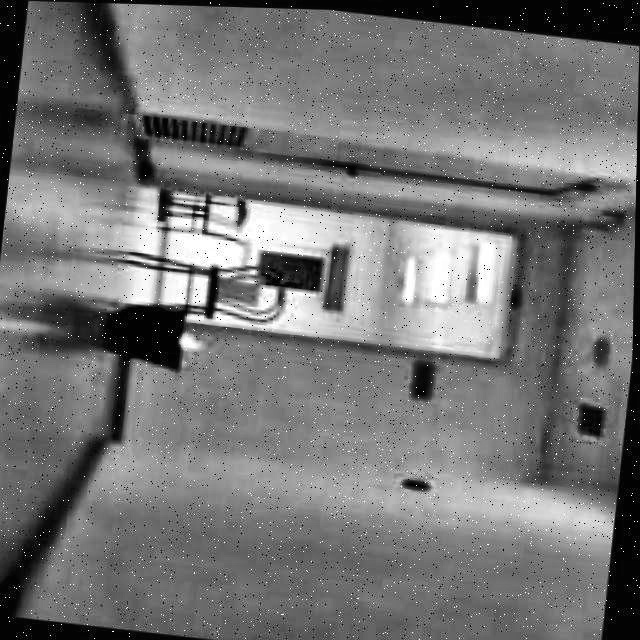Fire: (178, 328, 211, 356)
